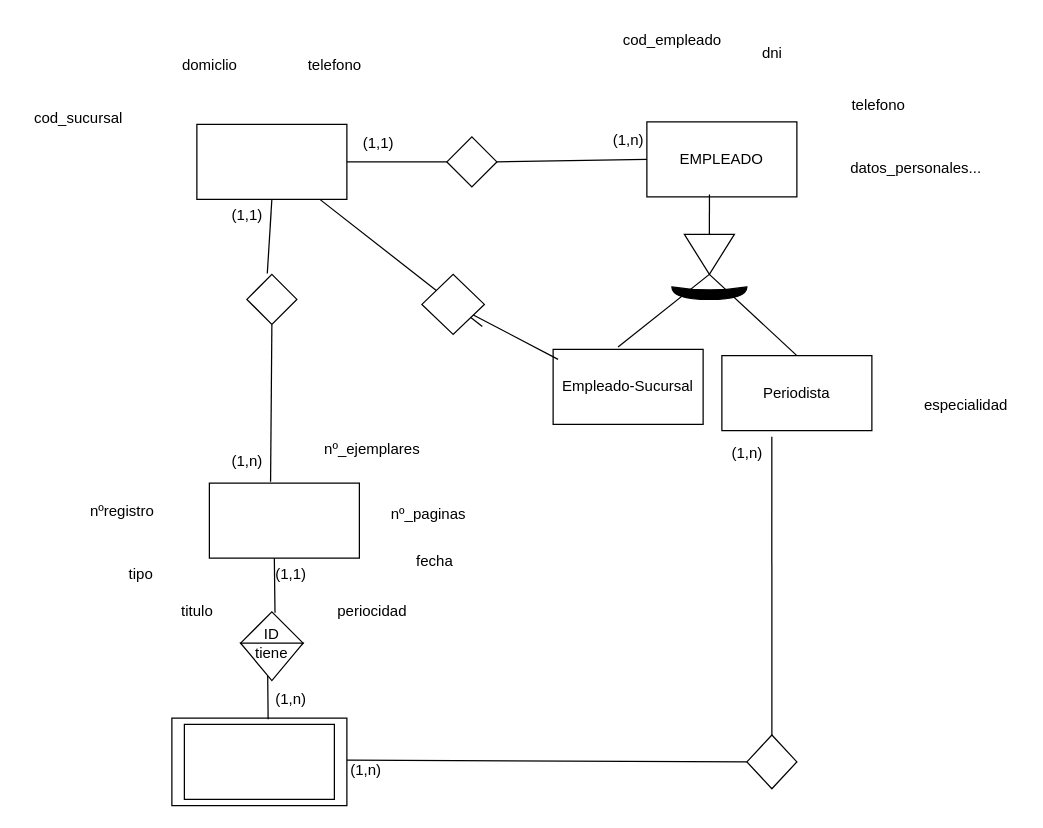
This 1043x828 diagram has some shape labels left out. Each missing label, with the centre of its shape:
Ejemplares: (258,761)
REVISTAS: (283,520)
SUCURSAL: (271,161)
